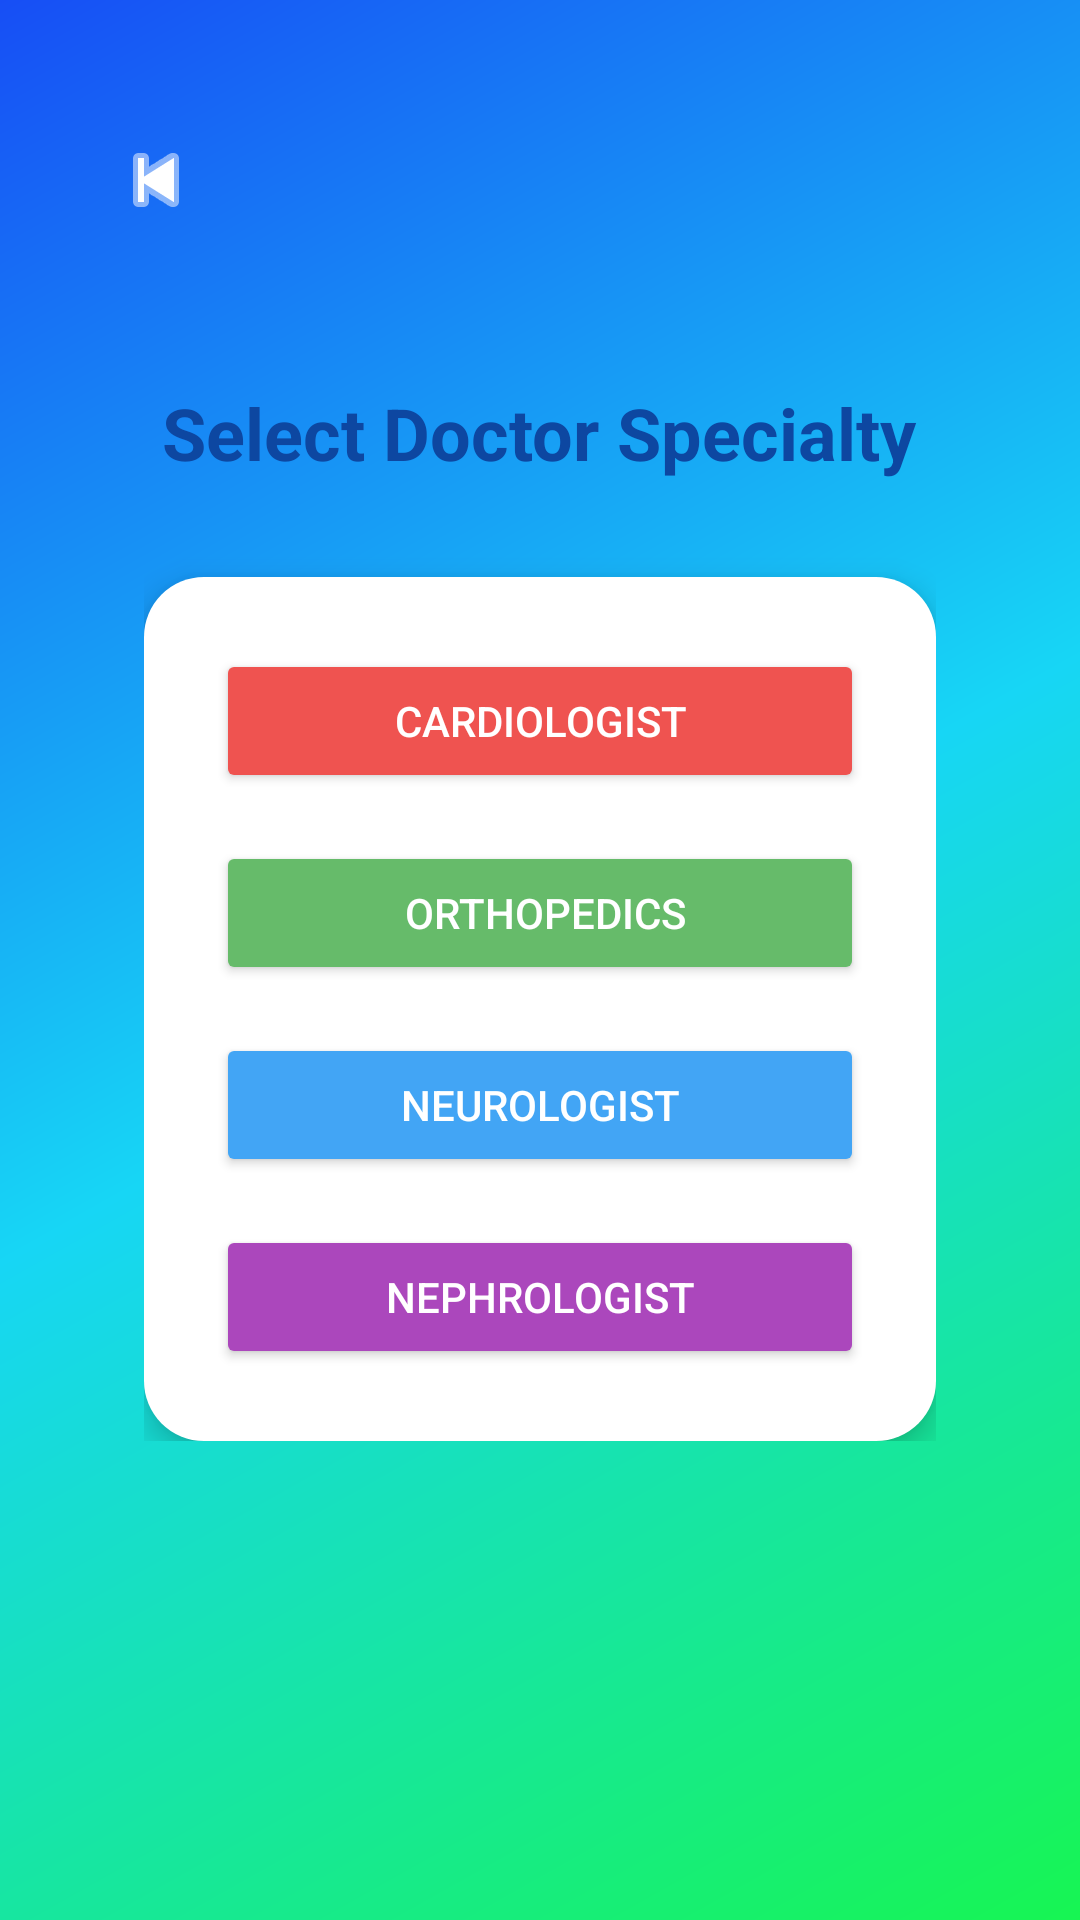

Named icons in this screenshot (1080 x 1920) and their bounding boxes, (x1, y1, x2, y2):
Back: (133, 153, 179, 207)
